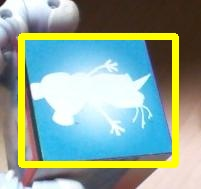Blue2: (21, 36, 175, 164)
